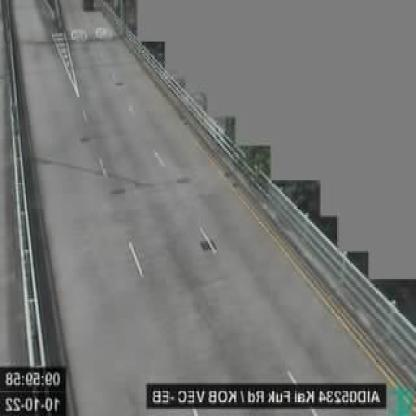Car: (82, 1, 96, 11)
